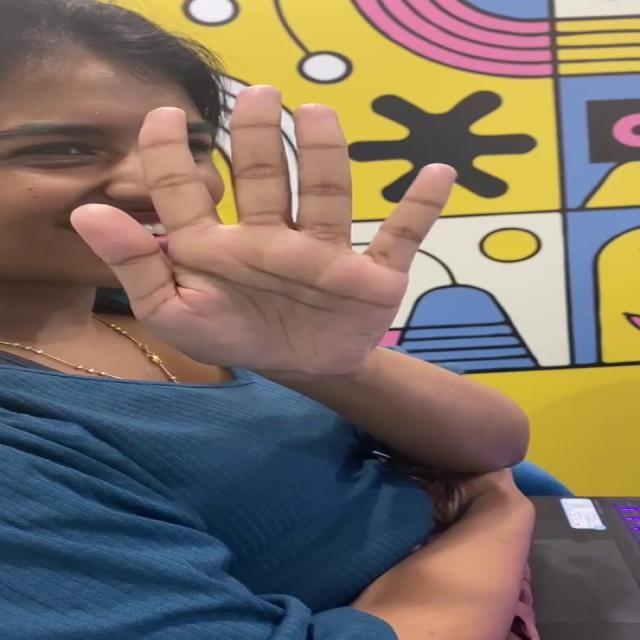no-gloves: (61, 67, 466, 399)
